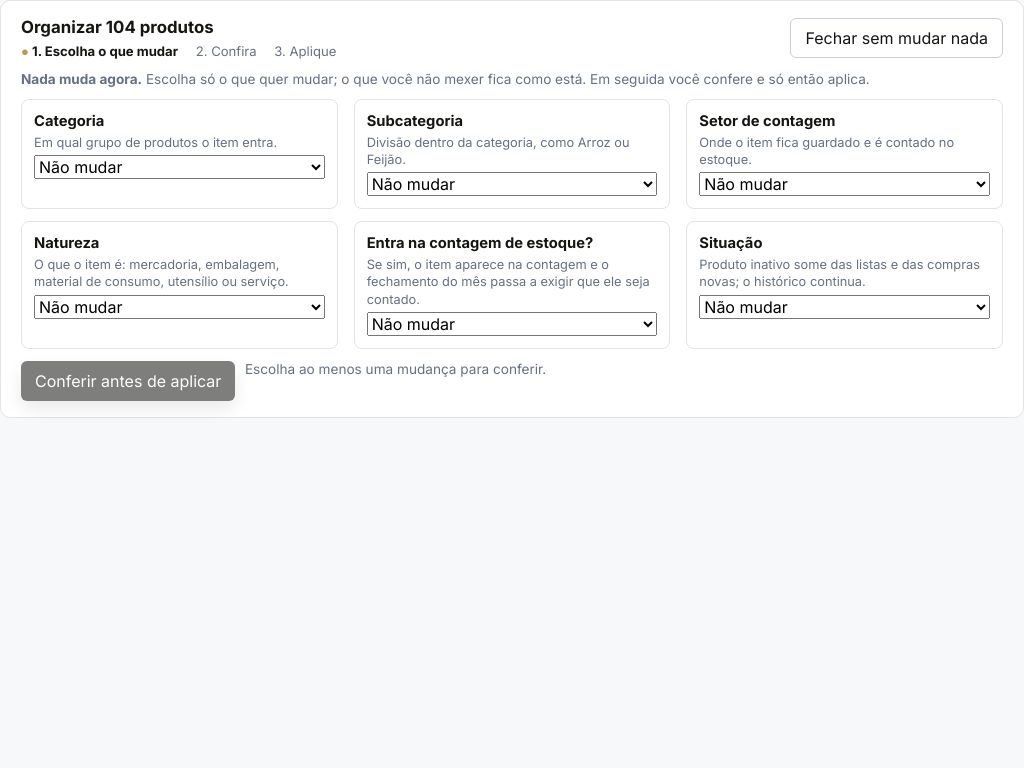
Test: LoteDeProdutos: passo 2, conferir › conferir simula (sem aplicar) e mostra o que muda, antes → depois, o que não muda e o porquê
Step 1. Select "ARROZ" in the dropdown labelled "Subcategoria" → (512, 184), box [367,172,657,196]
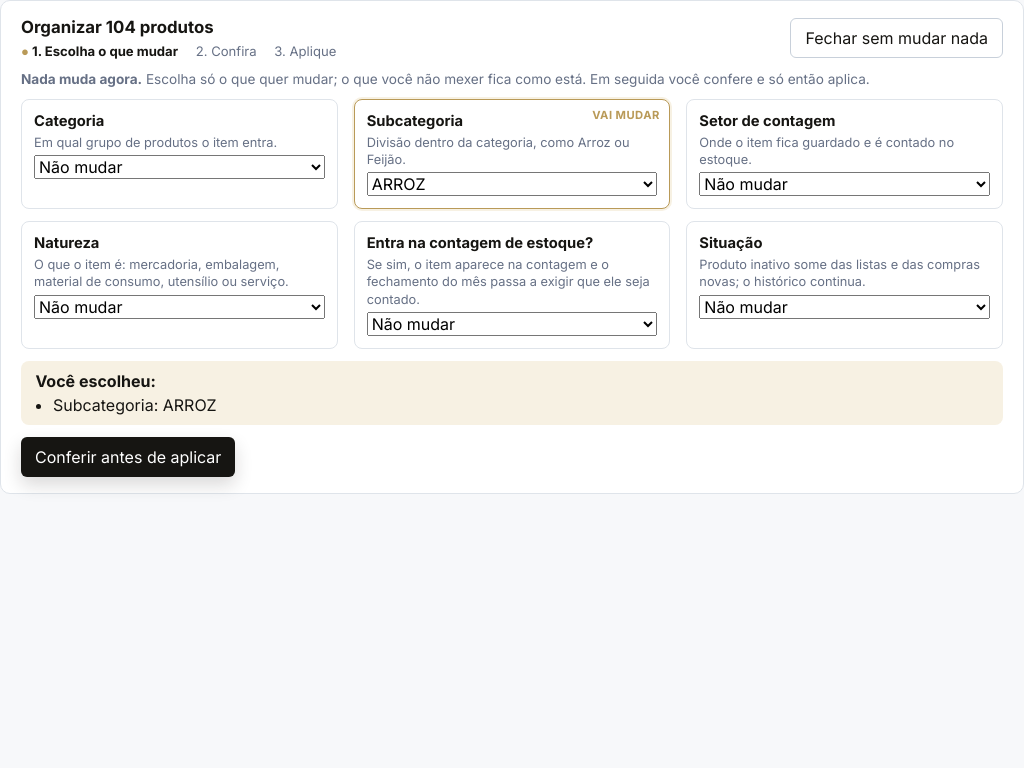
Step 2. Click the button "Conferir antes de aplicar" → click(128, 457), box [21,437,235,477]
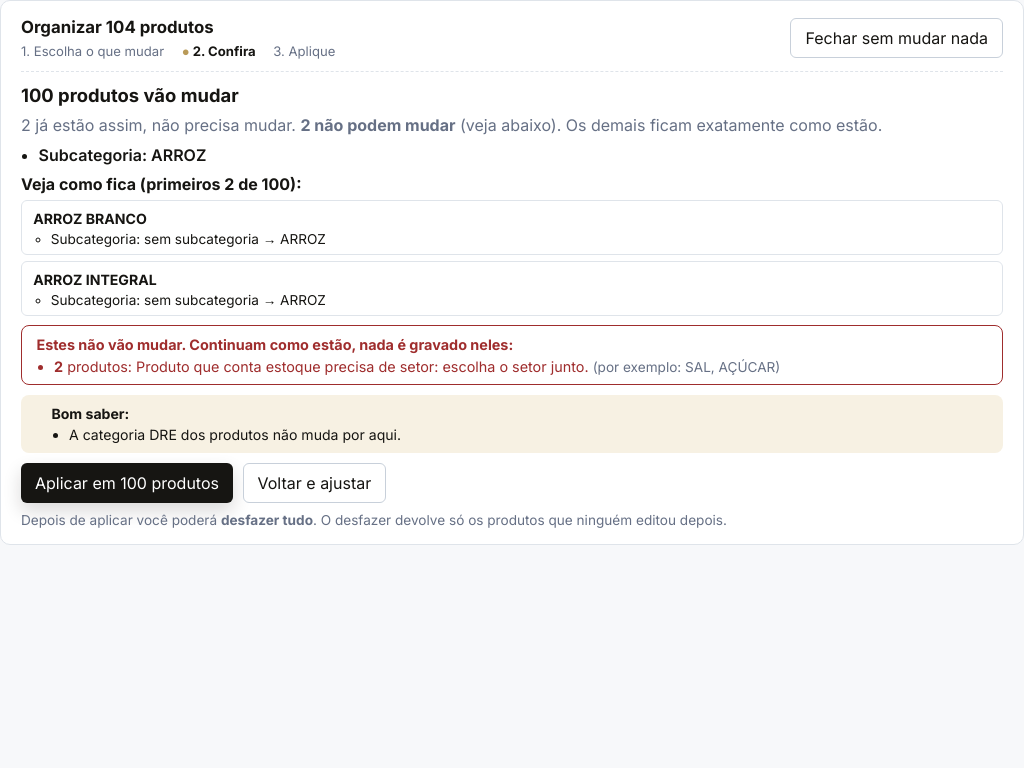
expect the element named "Resumo do que vai mudar" is shown: met, box [21,71,1003,528]
expect the heading "100 produtos vão mudar" is shown: met, box [21,84,239,106]
expect the text "2 já estão assim, não precisa mudar" is shown: met, box [21,115,1003,135]
